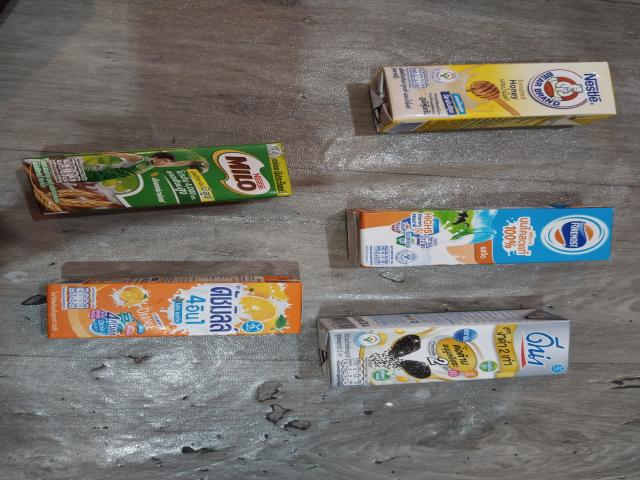drink_box: (7, 135, 306, 217), (34, 273, 316, 342), (318, 314, 579, 382), (348, 202, 614, 268), (358, 63, 629, 127)
